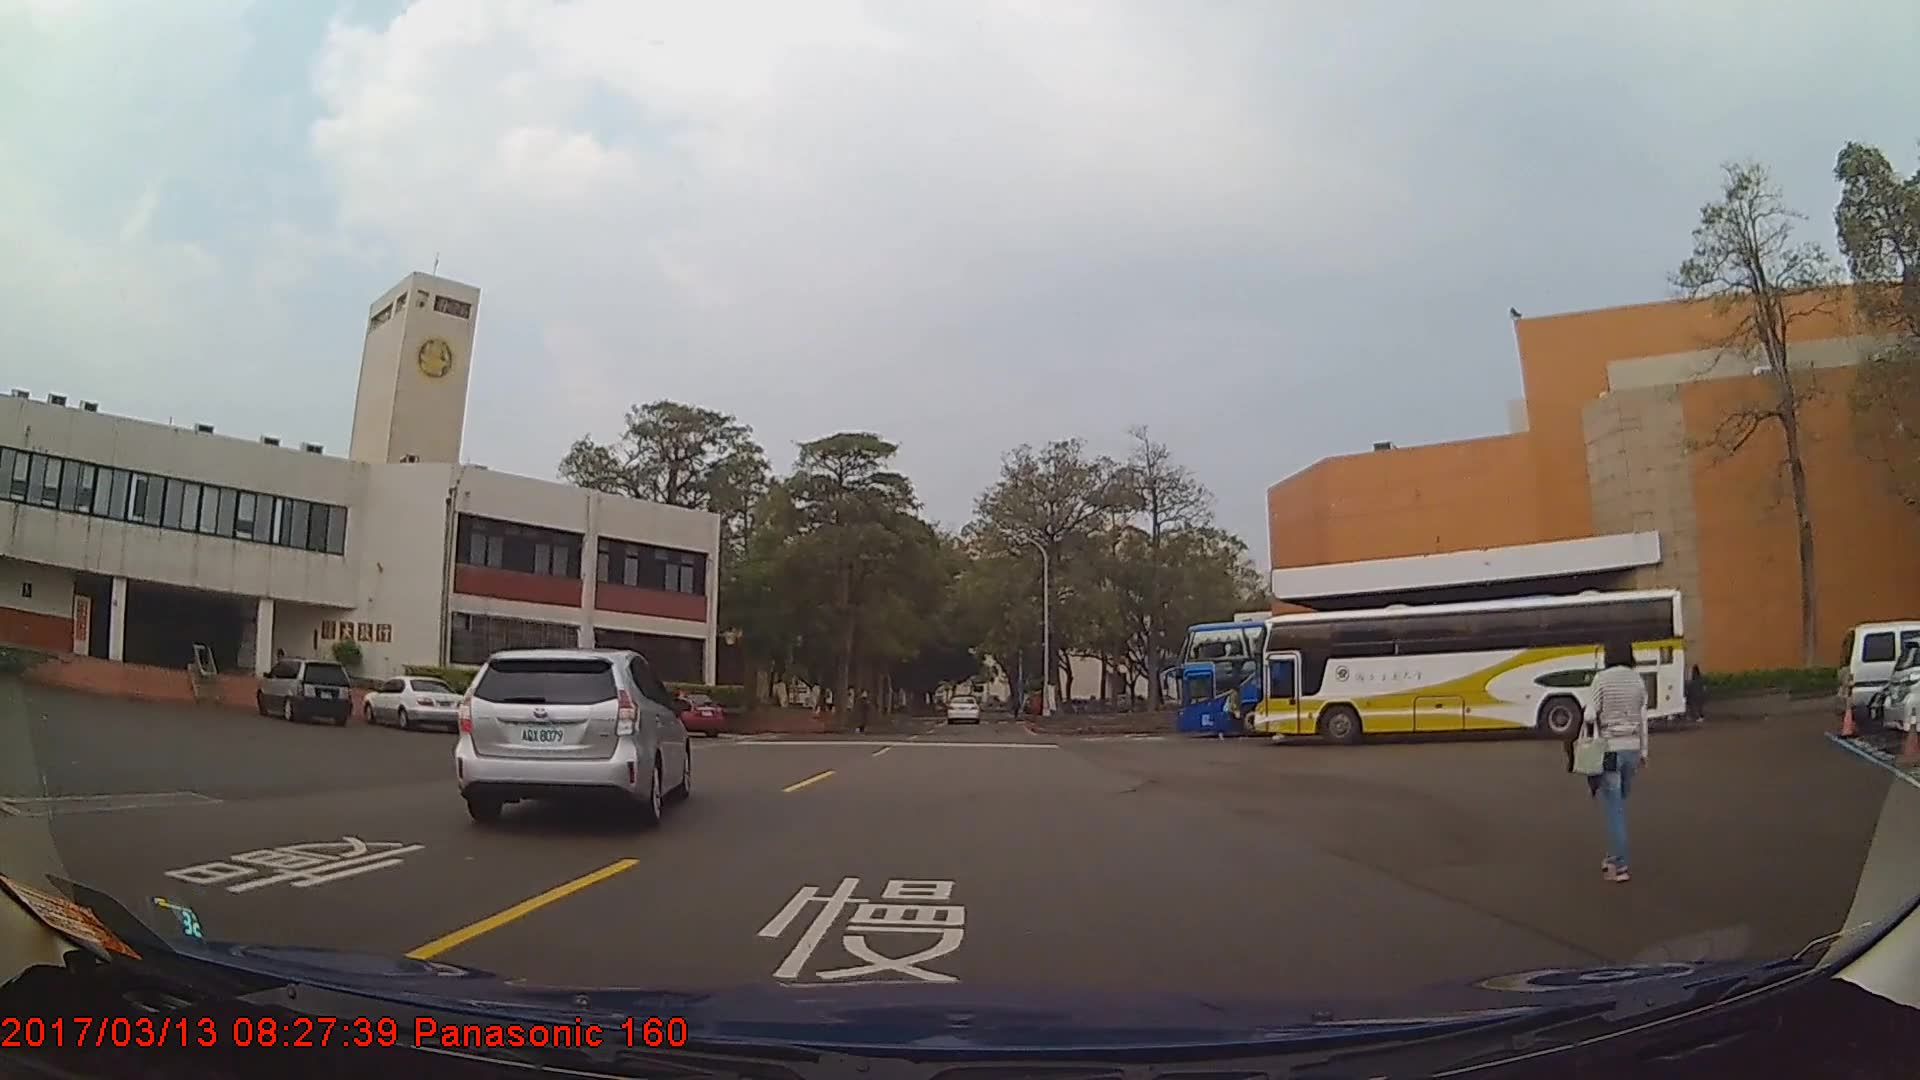pedestrian: (1570, 636, 1652, 878), (1677, 655, 1722, 732), (850, 686, 875, 738)
vehicle: (1250, 587, 1688, 748), (1173, 618, 1549, 742), (453, 649, 689, 820), (1835, 622, 1920, 732), (251, 656, 353, 724), (360, 674, 465, 728), (653, 689, 725, 739), (946, 695, 980, 724)
